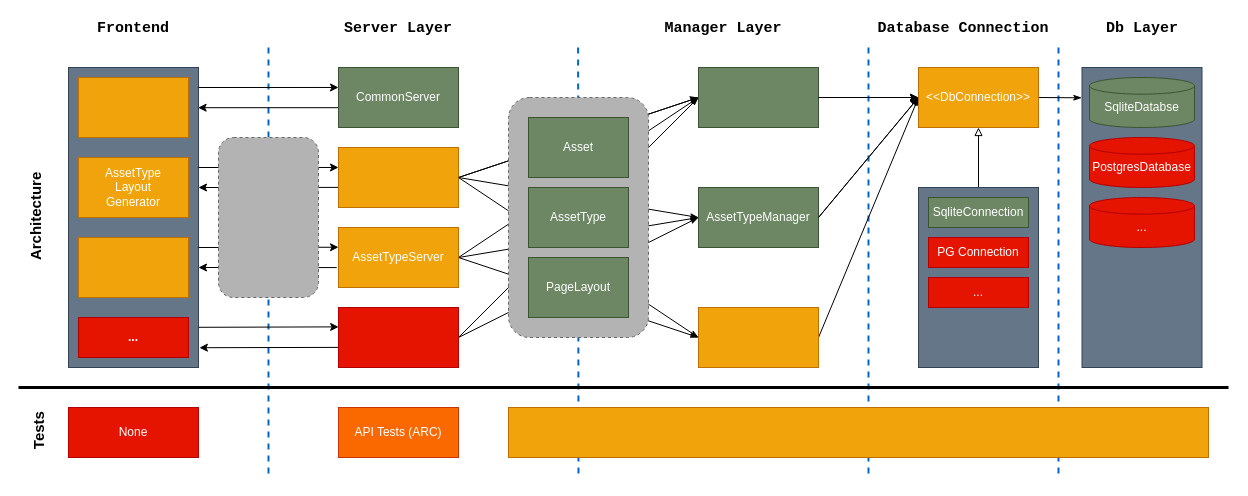
The diagram is 1248 pixels wide and 496 high, and some of its shapes have lost their labels. The centre of each missing label's shape, as x and y in pixels:
<<PluginServers>>: point (398, 337)
Asset Layout Generator: point (133, 107)
AssetManager: point (758, 97)
AssetServer: point (398, 177)
Communication via POST & GET Requests: point (268, 217)
Create Templates: point (133, 267)
PageManager: point (758, 337)
Python Unit Tests: point (858, 432)
